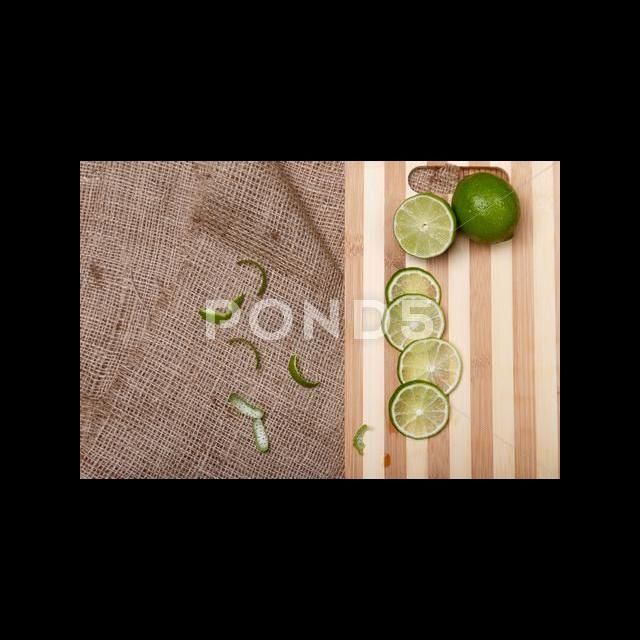lime: (448, 169, 524, 247)
